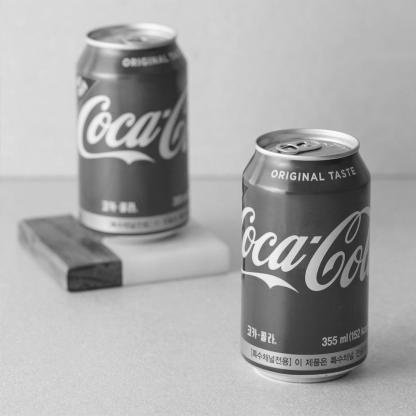alumunium_can: (238, 130, 378, 379)
